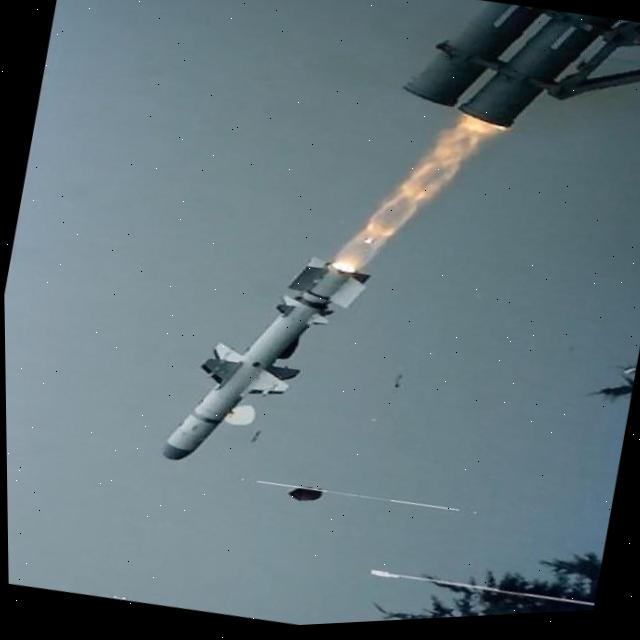missile: (155, 230, 377, 492)
